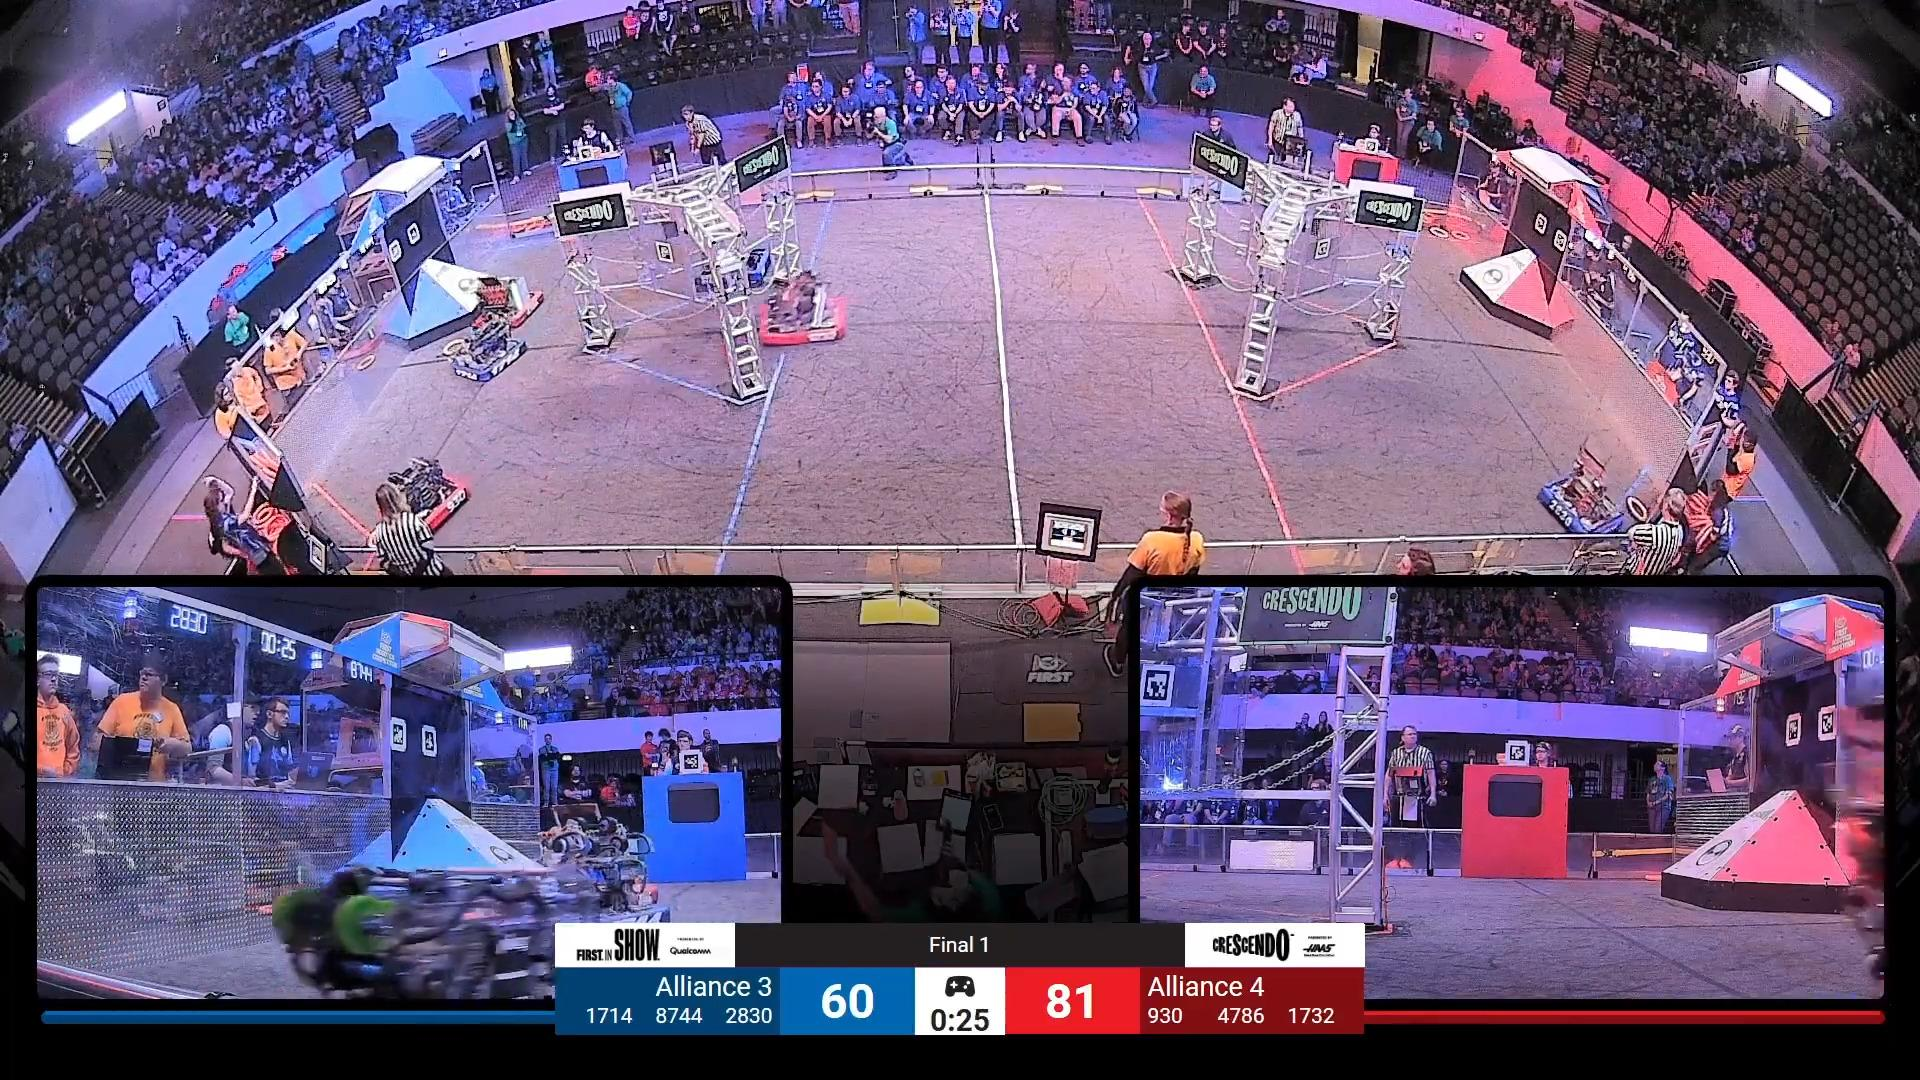robot: (1538, 442, 1627, 538), (754, 270, 847, 348), (382, 458, 464, 541), (469, 276, 545, 334), (448, 328, 521, 384), (696, 240, 771, 290)
